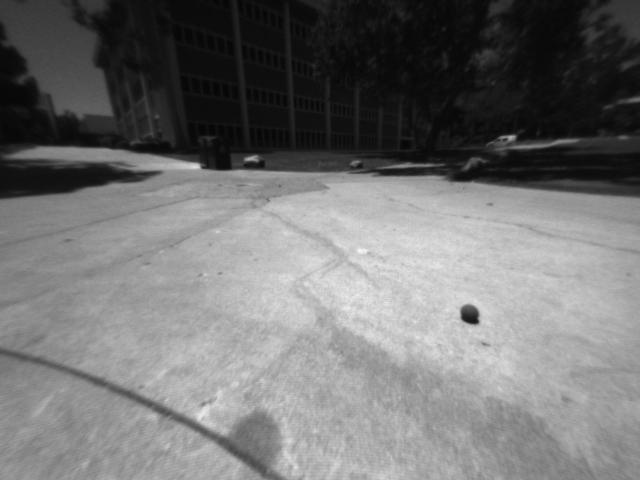dogtoy: (455, 298, 489, 330)
